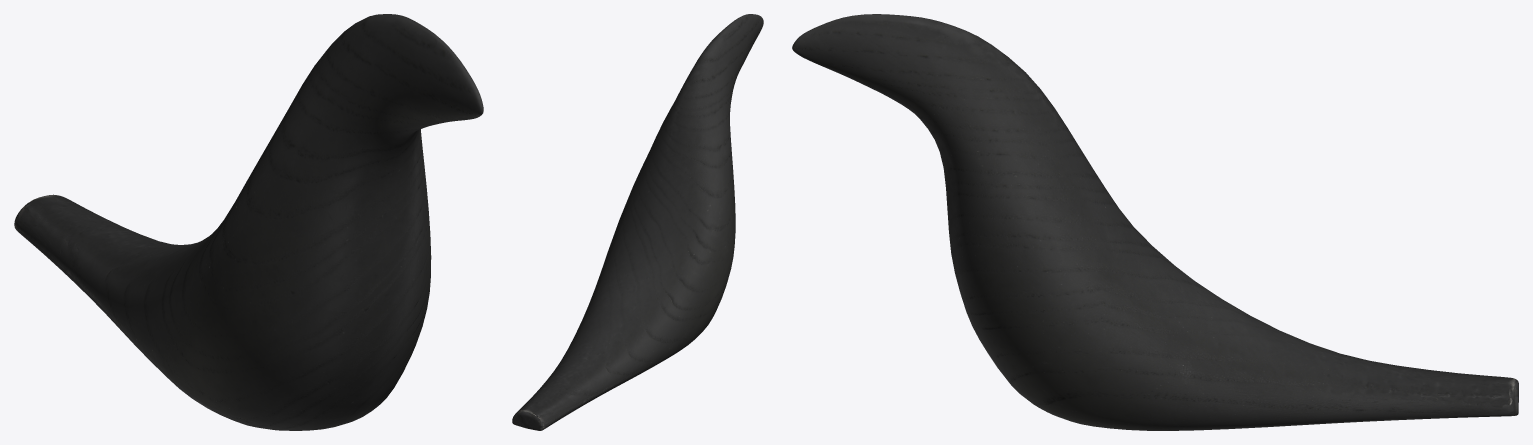
File: Pajaros_Toucan.fbx
3 views of the same model, side by side, from view 1: azimuth 30°, elevation 25°; view 2: azimuth 150°, elevation 25°; view 3: azimuth 270°, elevation 25° (orthographic). The views are drawn at different scales.
Parts seen in each view (by area): view 1: Ligne_Roset_Pajaros_Toucan_mat1; view 2: Ligne_Roset_Pajaros_Toucan_mat1; view 3: Ligne_Roset_Pajaros_Toucan_mat1.
Part boxes in pixels (x1,y1,x2,y2): Ligne_Roset_Pajaros_Toucan_mat1: (14,14,483,430); Ligne_Roset_Pajaros_Toucan_mat1: (512,14,763,430); Ligne_Roset_Pajaros_Toucan_mat1: (792,14,1518,430).
Bounding box in the file's own units: 5.52 × 21.46 × 12.85.
1 material, 1 textured.
